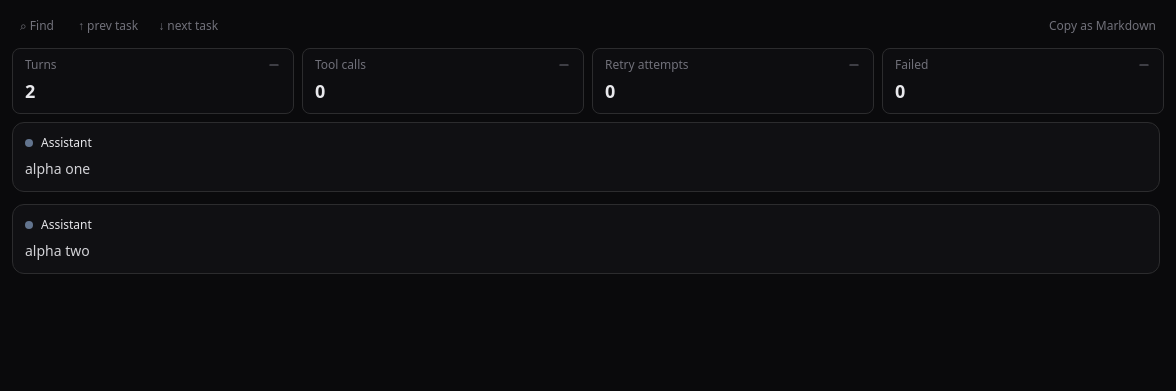
Test: ConversationTimeline find tiers and hotkeys › Enter steps the current match to amber highlights while the others stay default
Click the button "⌕ Find" at point(37, 26), box [12,12,62,40]
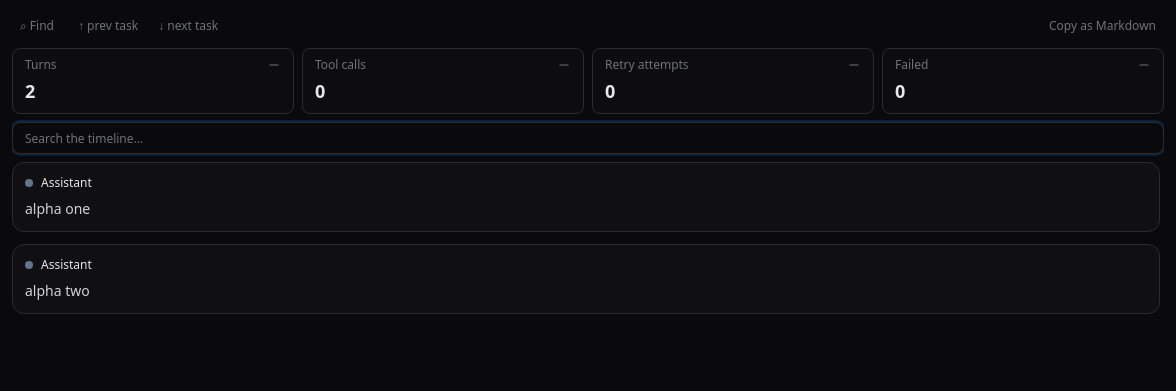
Type "alpha" into the field with test id "timeline-find" at point(588, 138), box [12,122,1164,154]
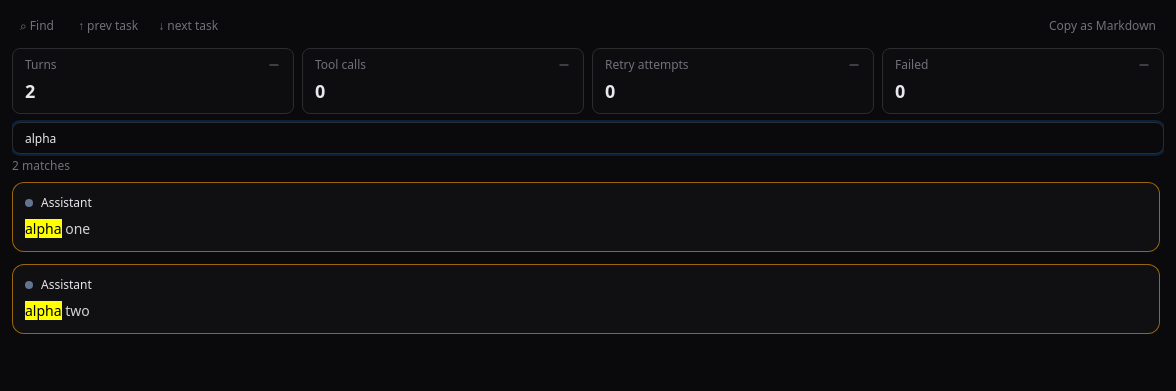
Now the text "2 matches" is shown, box [12,157,70,174]
Press Enter in the field with test id "timeline-find", box [12,122,1164,154]
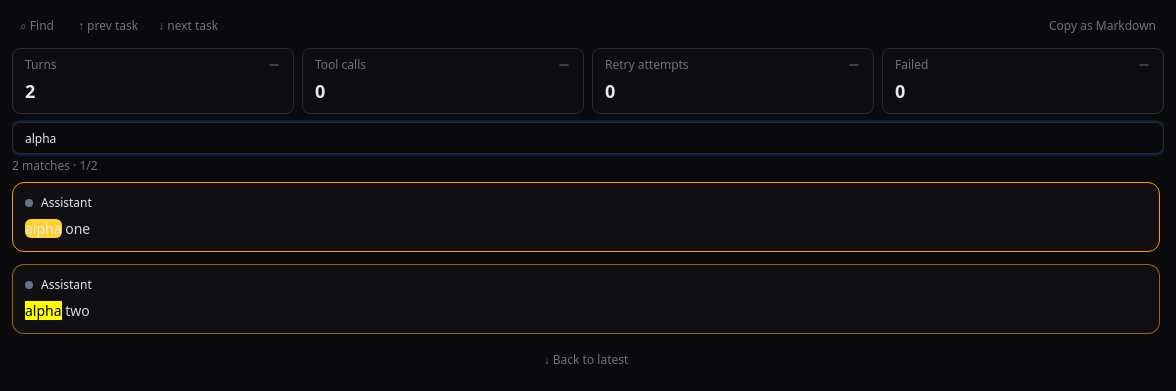
Now the text with test id "find-current-position" shows "1/2", box [70,157,98,174]
Press Enter in the field with test id "timeline-find", box [12,122,1164,154]
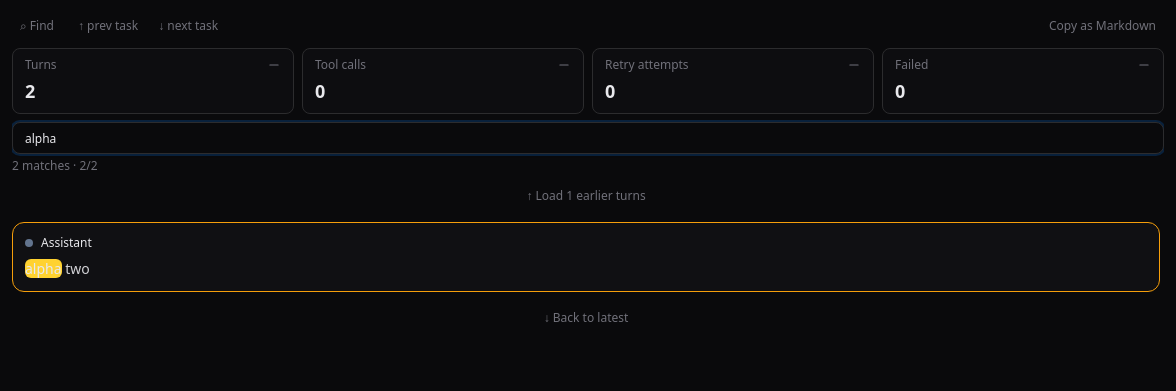
Now the text with test id "find-current-position" shows "2/2", box [70,157,98,174]
